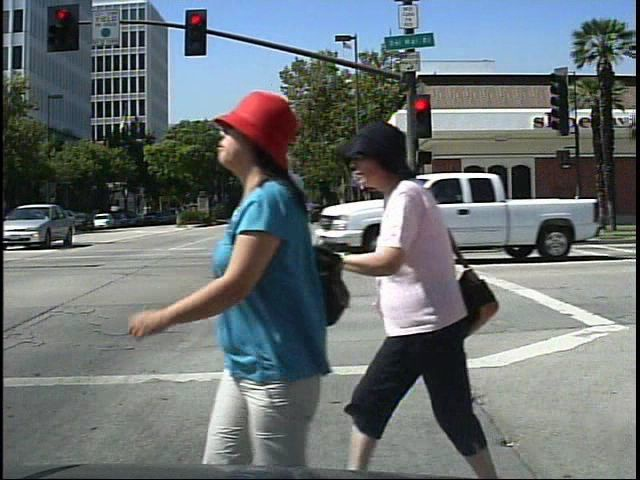person: (116, 64, 357, 474), (345, 116, 518, 480)
